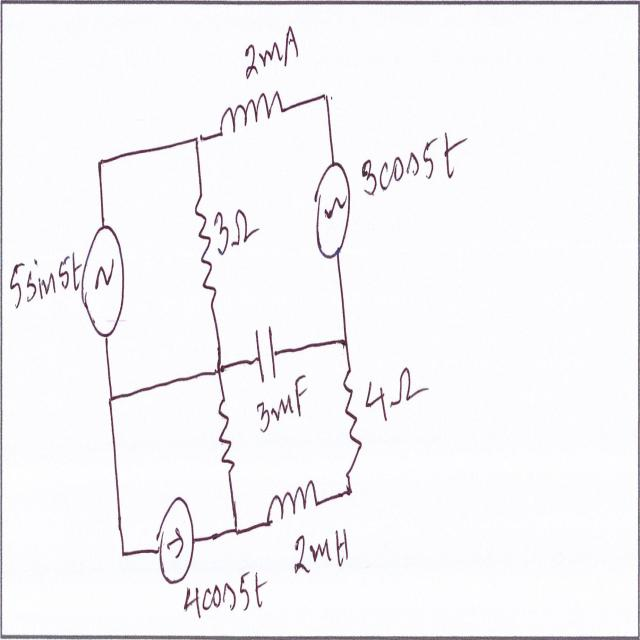ac_current: (79, 216, 127, 346), (308, 154, 356, 270)
capacitor: (251, 317, 283, 390)
current_source: (152, 492, 198, 596)
inductor: (217, 78, 284, 142), (265, 476, 321, 532)
resistor: (216, 385, 242, 499), (194, 185, 216, 302), (341, 360, 366, 456)
